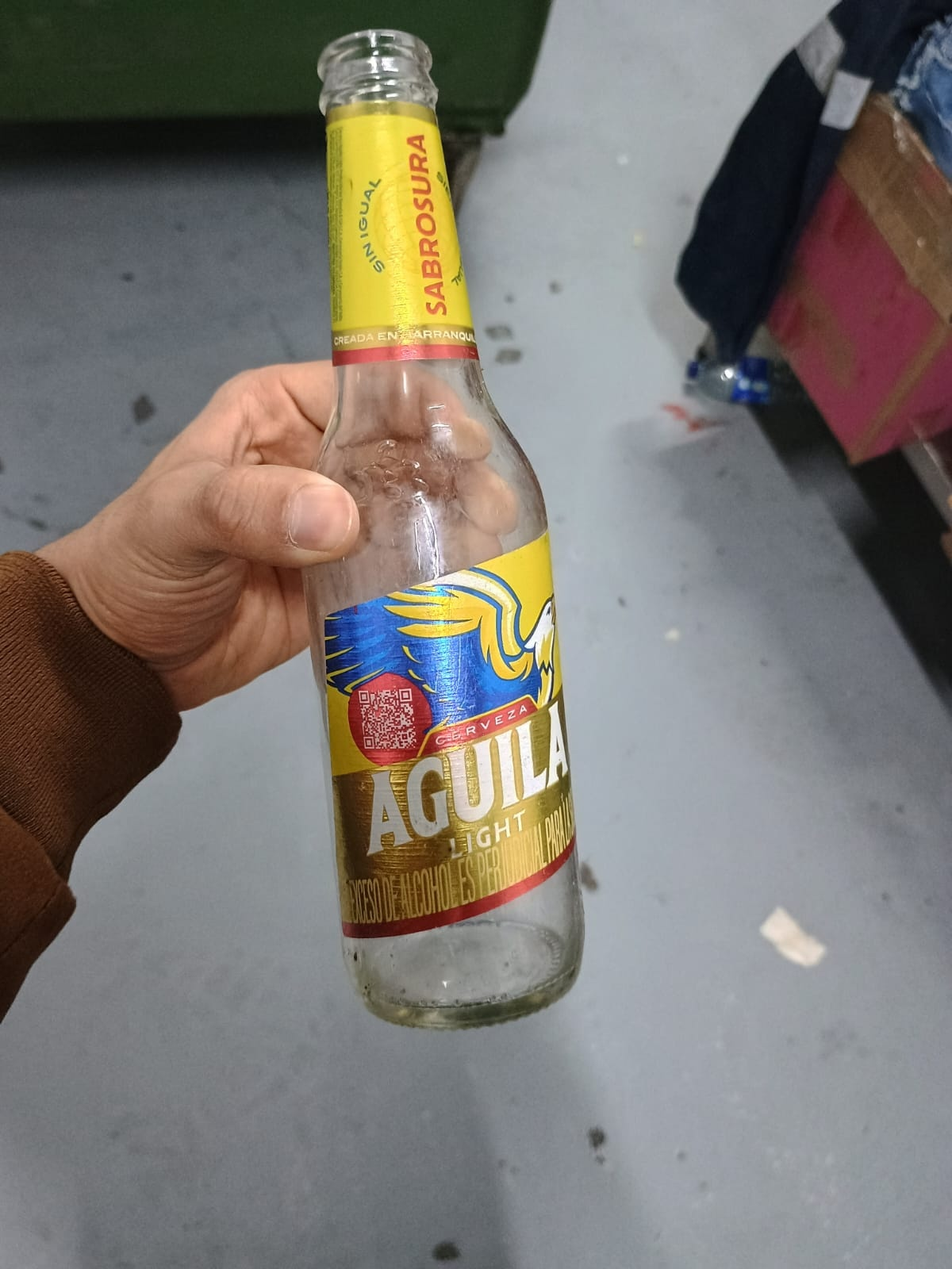Vidrio: (290, 28, 586, 1025)
